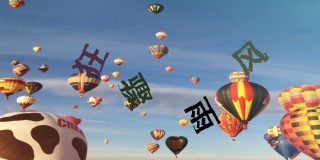狂: (71, 43, 109, 79)
雨: (184, 96, 221, 135)
风: (231, 40, 271, 75)
骤: (118, 71, 153, 111)
